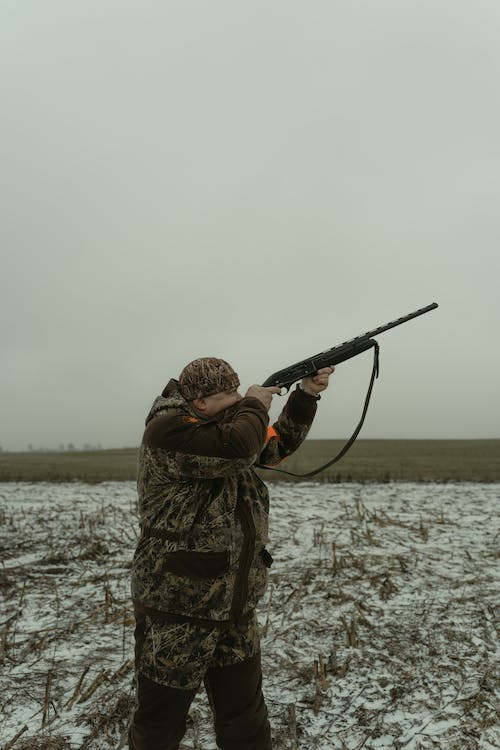gun: (192, 297, 441, 430)
